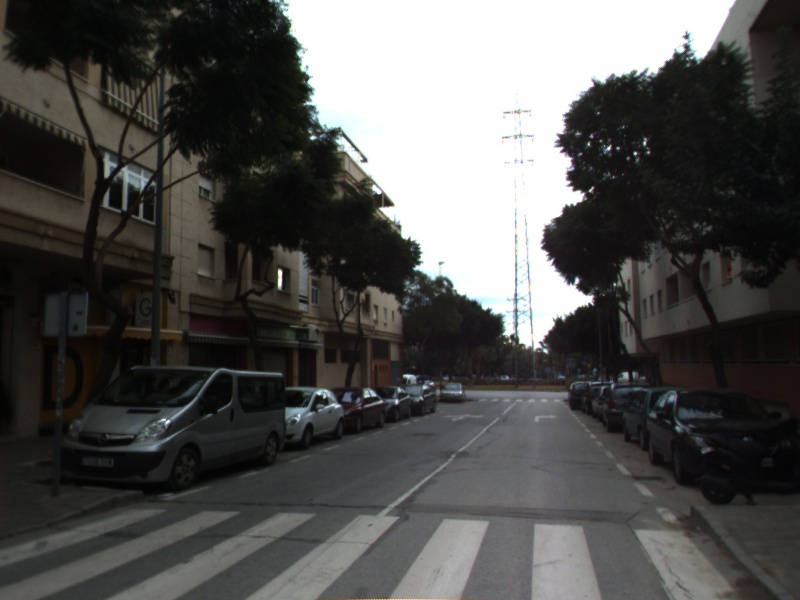RIGHT: (532, 412, 561, 424)
